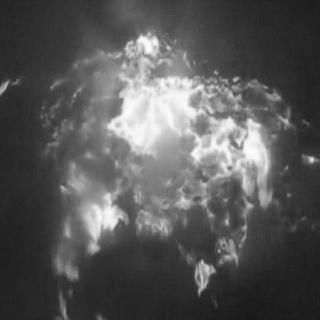Fire: (0, 77, 17, 97)
